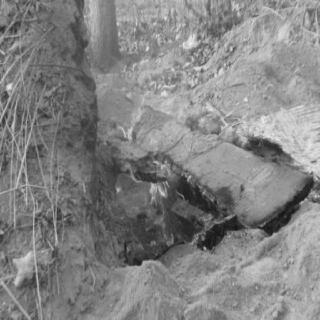Fire: (90, 124, 252, 260)
